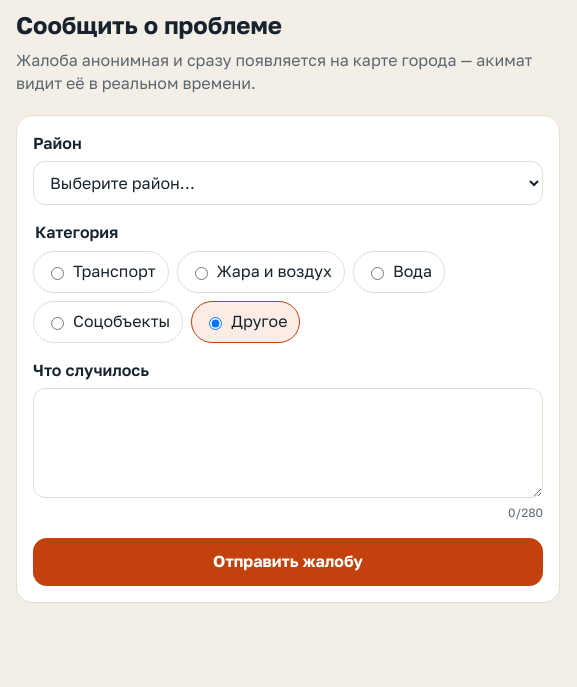
ReportPage › sends a complaint and confirms it is on the map
This screenshot has width=577, height=687.
Select "12 мкр" in the dropdown labelled "Район": (288, 183) [33,161,543,205]
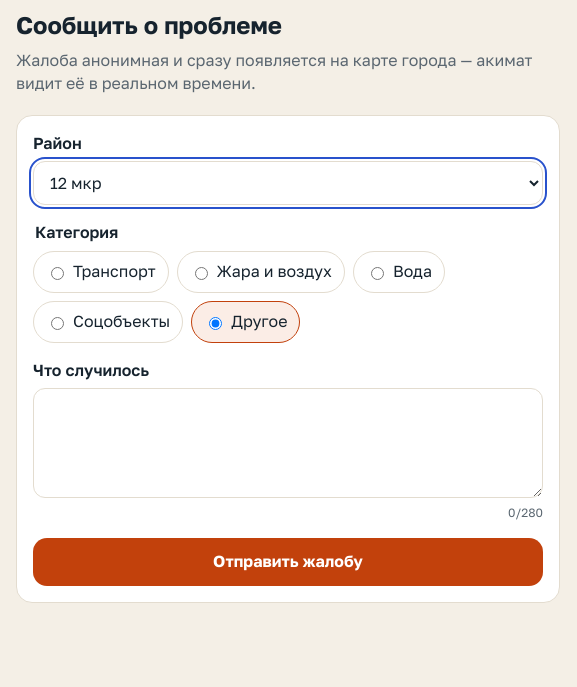
Click the radio button labelled "Транспорт": (58, 273) [51,266,64,280]
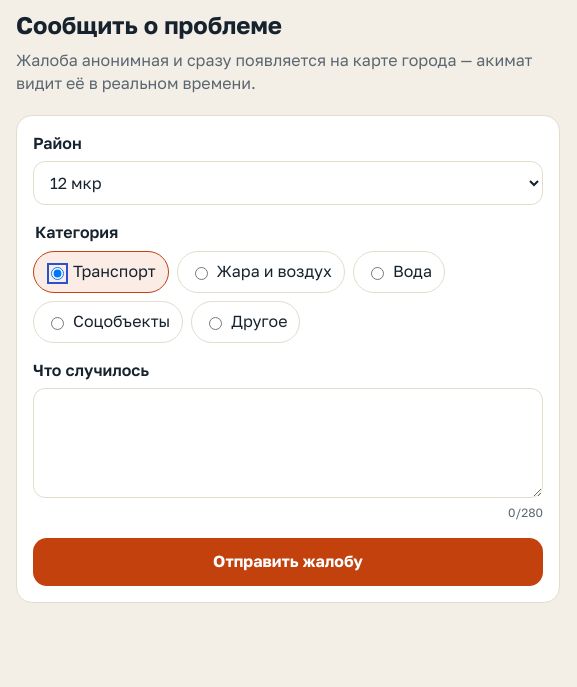
In the text box labelled "Что случилось": (288, 443) [33,388,543,498], type "Пробка у школы"
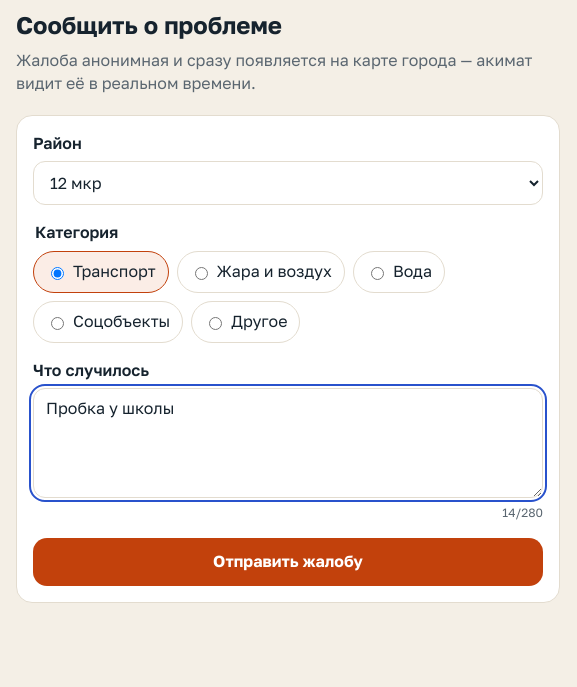
Click the button "Отправить жалобу": (288, 562) [33,538,543,586]
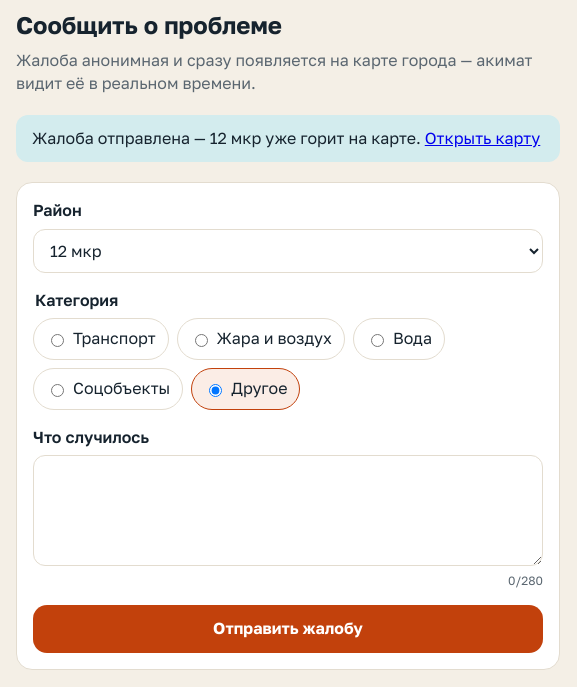
expect the message shows "Жалоба отправлена": met, box [32,128,210,148]
